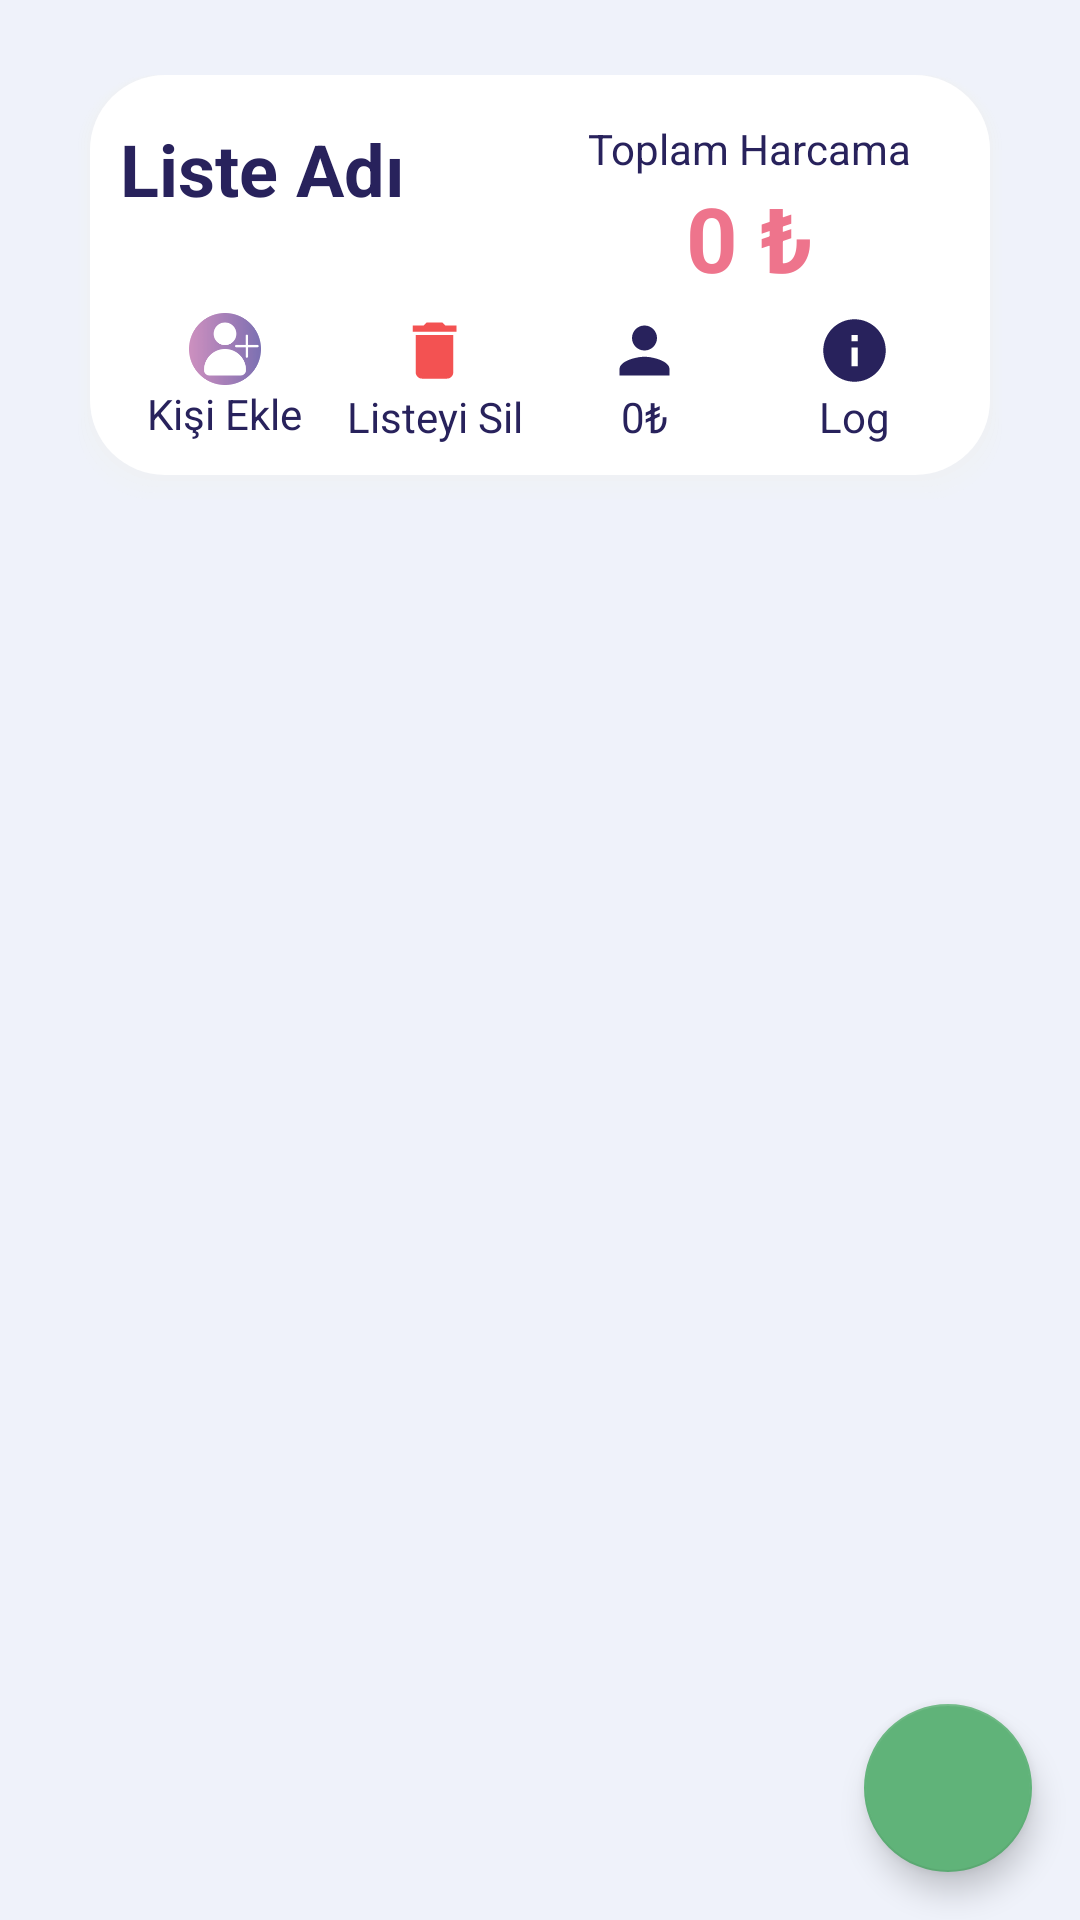

Screen size 1080x1920. Icon name, then its center in pixels as point (x, y):
info: point (854, 350)
person: point (644, 350)
profile mor yeni: point (225, 349)
